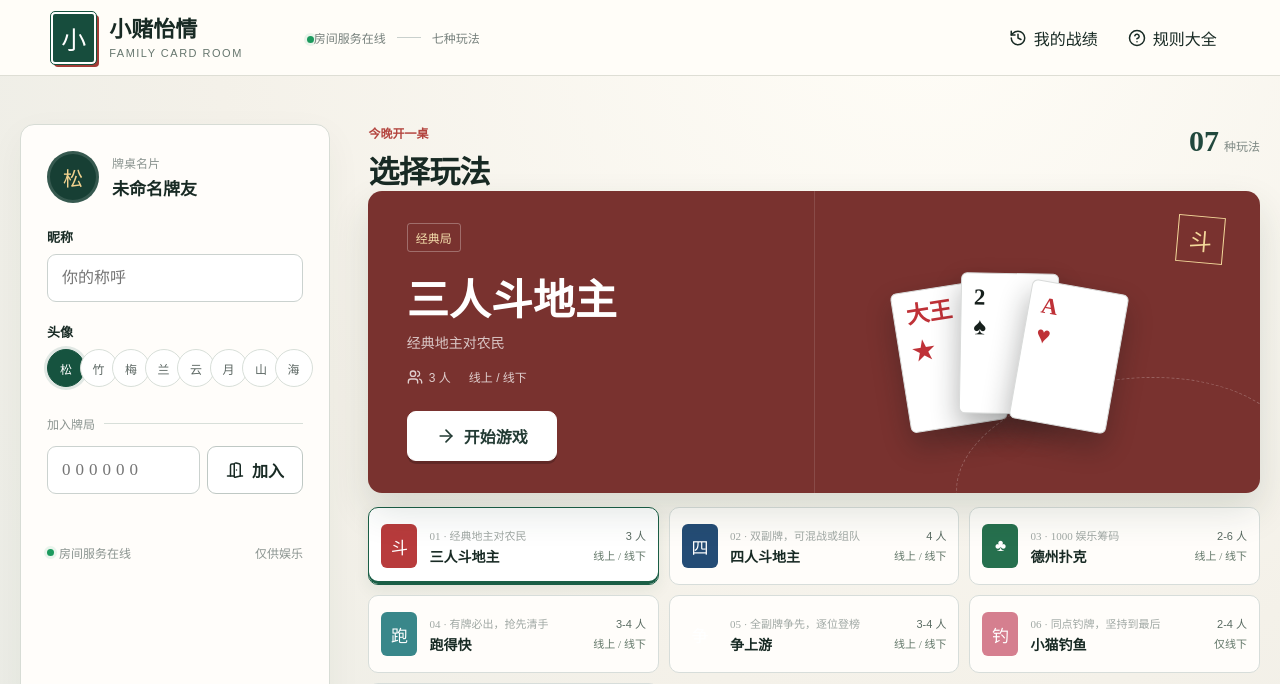
创建房间 › 战绩将德州筹码、钓鱼牌堆分与娱乐积分分开
Click the button "我的战绩": (1053, 38) [997,18,1110,58]
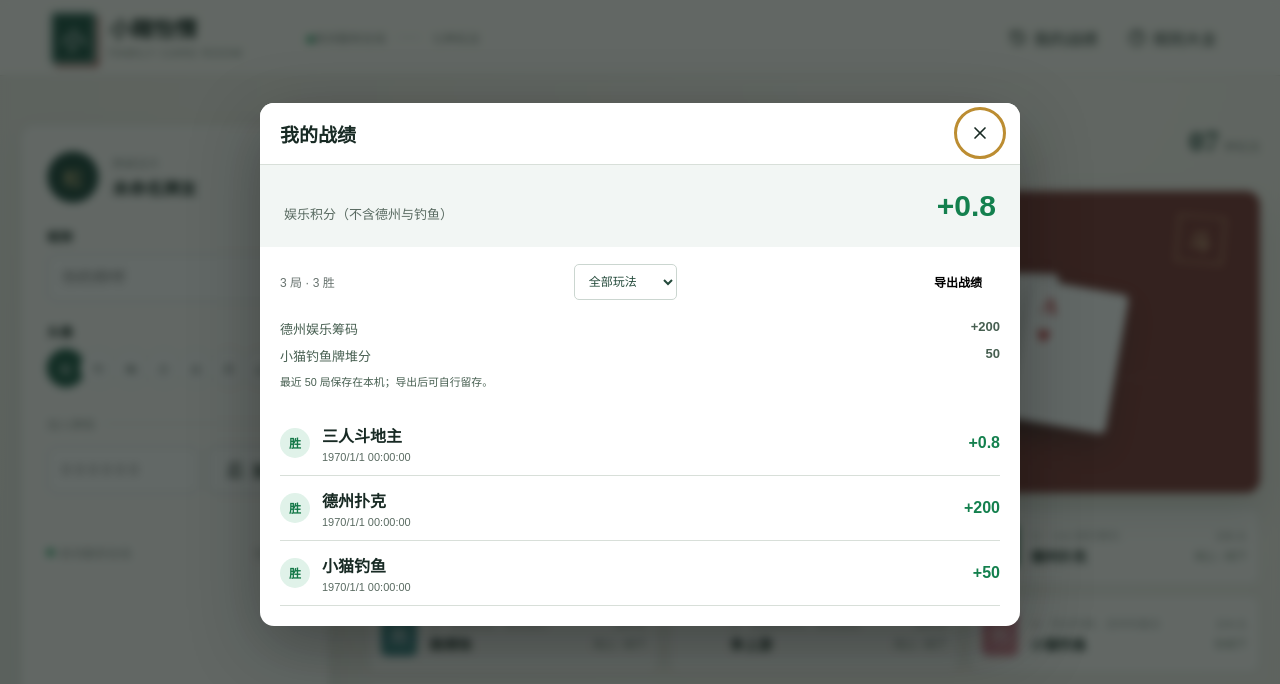
expect the text "+0.8" in the row of "娱乐积分（不含德州与钓鱼）" is shown: met, box [937,188,996,222]
expect the element with class "history-units" shows "+200": met, box [260,304,1020,402]
expect the element with class "history-units" shows "50": met, box [986,346,1000,360]
